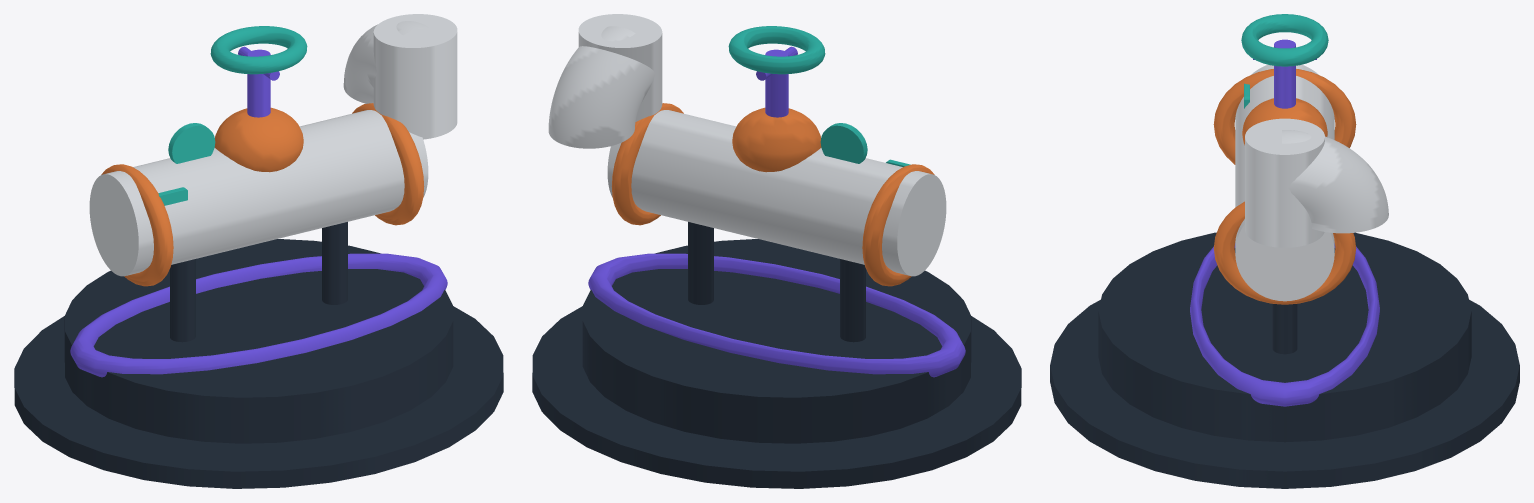
The model's file is 0947_农业科技图鉴_指针式喷灌机.glb.
The picture shows the model from 3 angles, left to right: view 1: azimuth 30°, elevation 25°; view 2: azimuth 150°, elevation 25°; view 3: azimuth 270°, elevation 25°; orthographic projection.
Parts seen in each view (by area): view 1: card_0947; view 2: card_0947; view 3: card_0947.
Part boxes in pixels (box(x1,y1,x2,y2)): card_0947: box(14, 14, 503, 488); card_0947: box(532, 14, 1021, 488); card_0947: box(1050, 14, 1519, 488).
Size of the model in its own units: 1.31 by 1 by 1.22.
